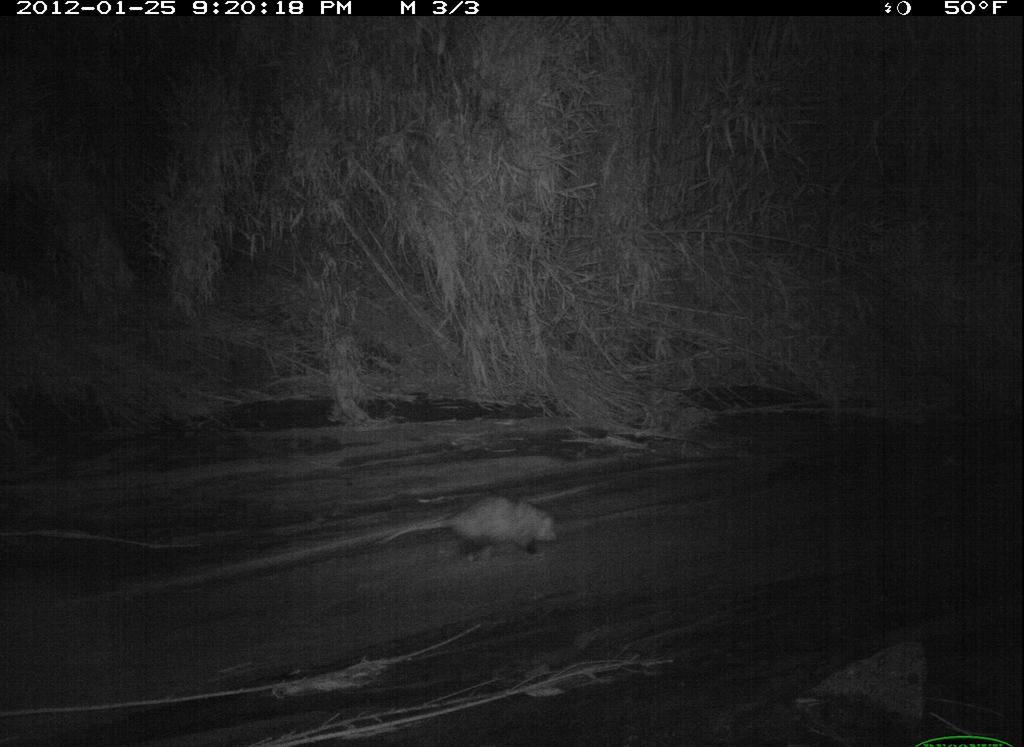opossum: (378, 491, 568, 571)
